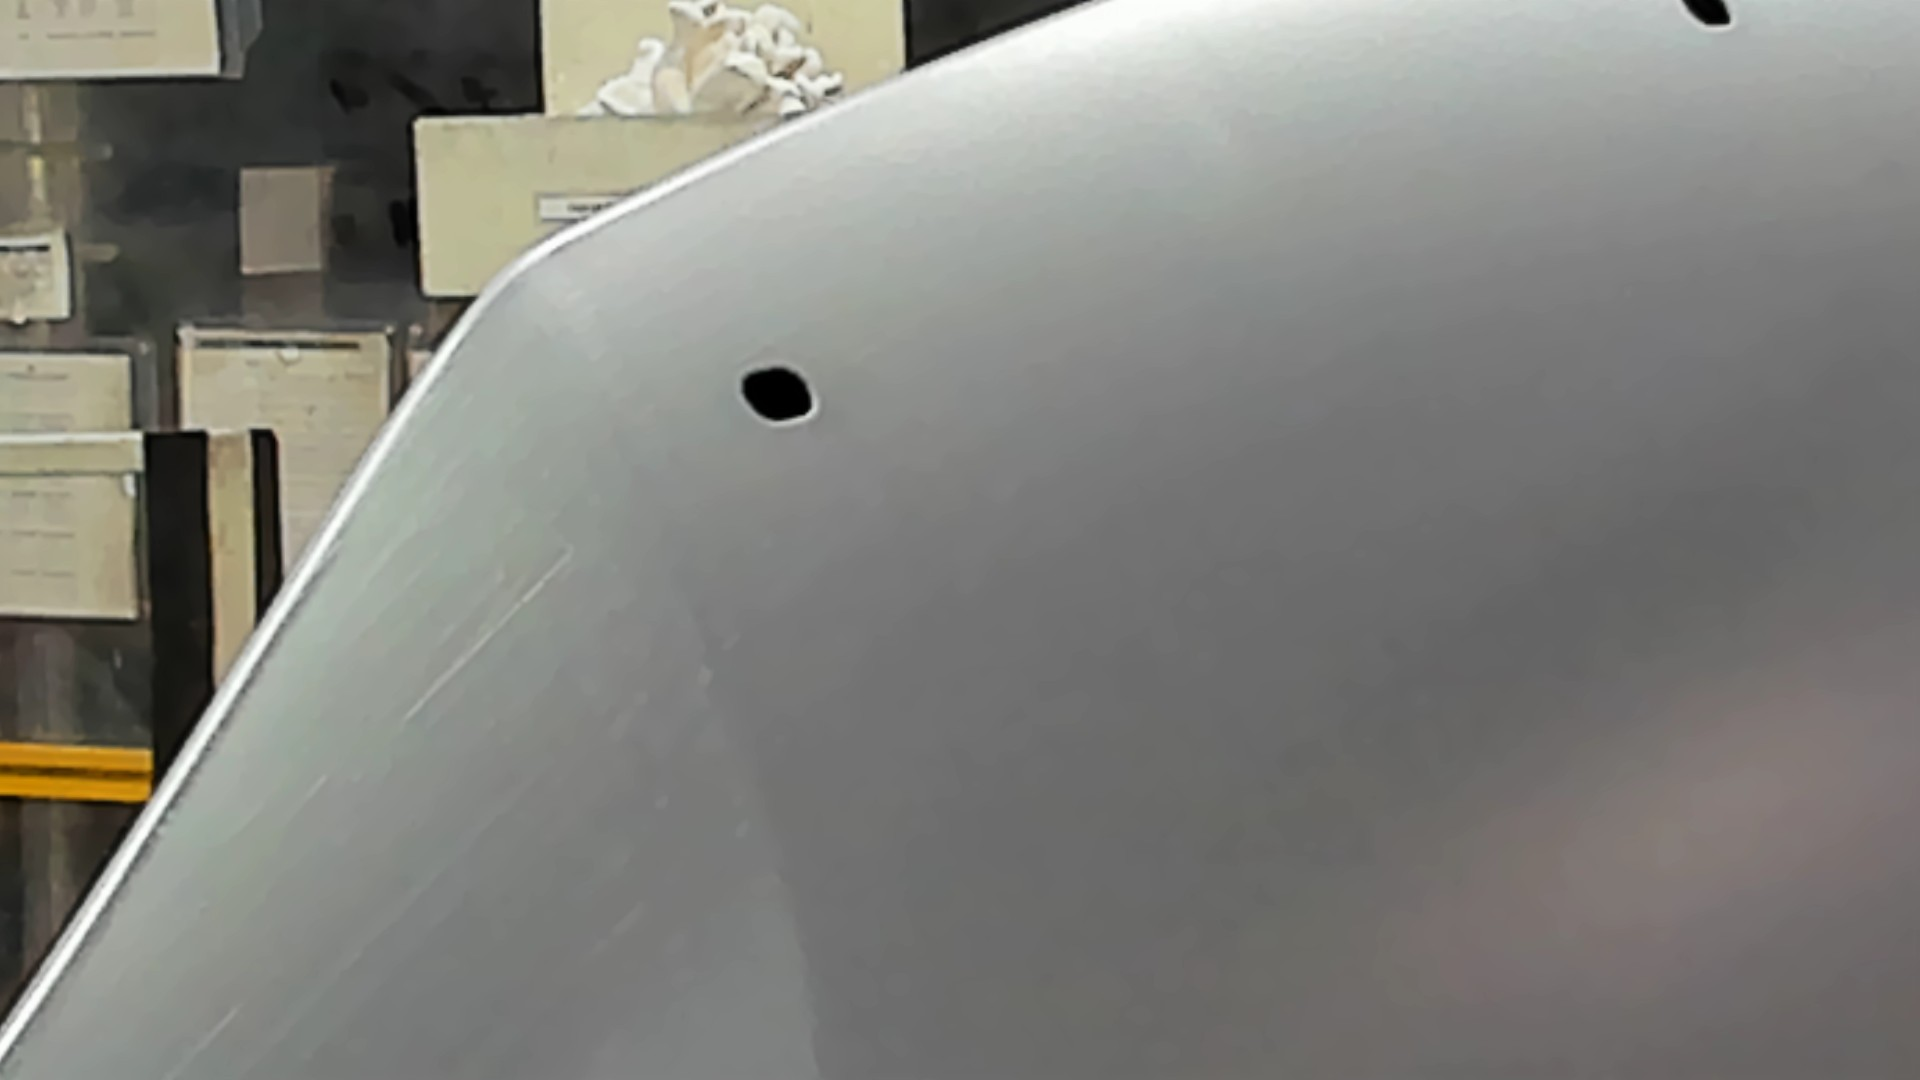amorfo: (732, 361, 820, 433), (1664, 1, 1750, 36)
